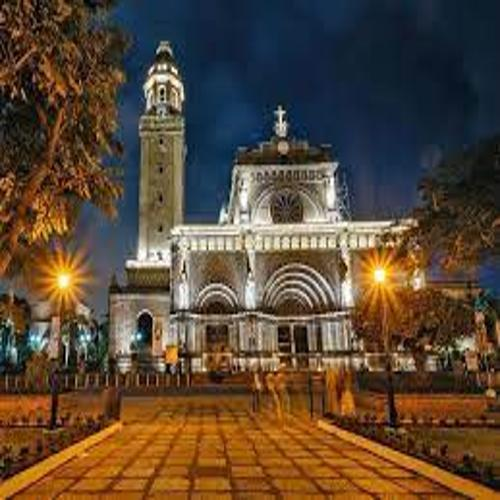Manila Cathedral Church: (96, 26, 480, 393)
